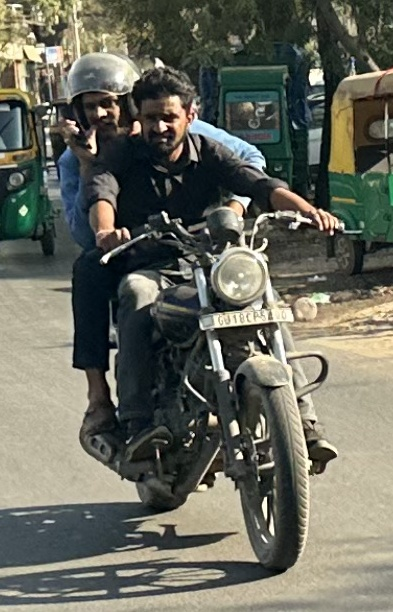BikeWithRider: (50, 43, 352, 580)
Helmet: (56, 46, 148, 148)
NoHelmet: (123, 62, 206, 157)
